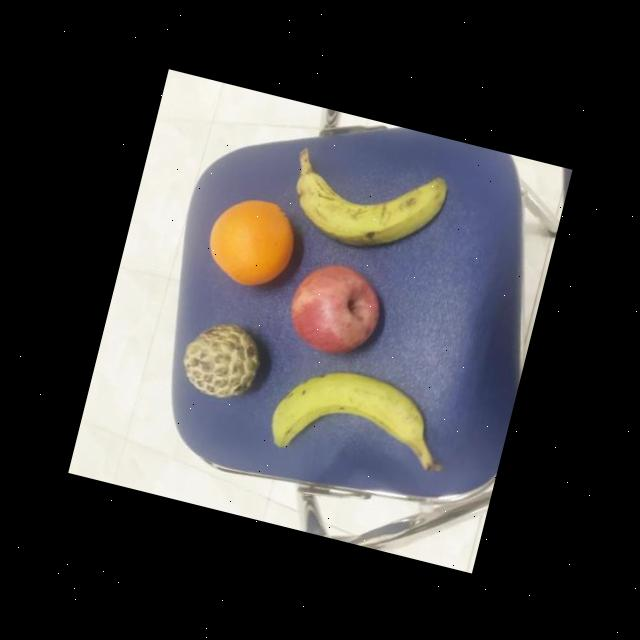Sakya fruit: (172, 312, 271, 405)
apple: (278, 252, 390, 363)
banana: (262, 354, 434, 481), (282, 139, 452, 265)
orange: (198, 186, 304, 296)
